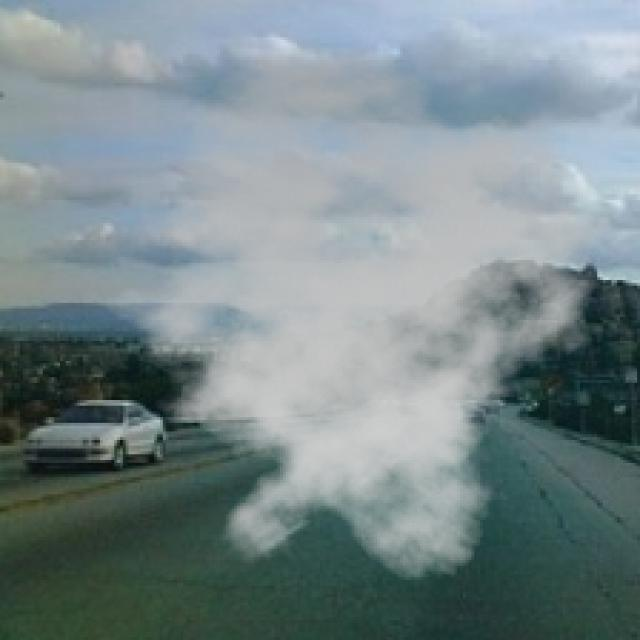smoke: (77, 43, 626, 583)
